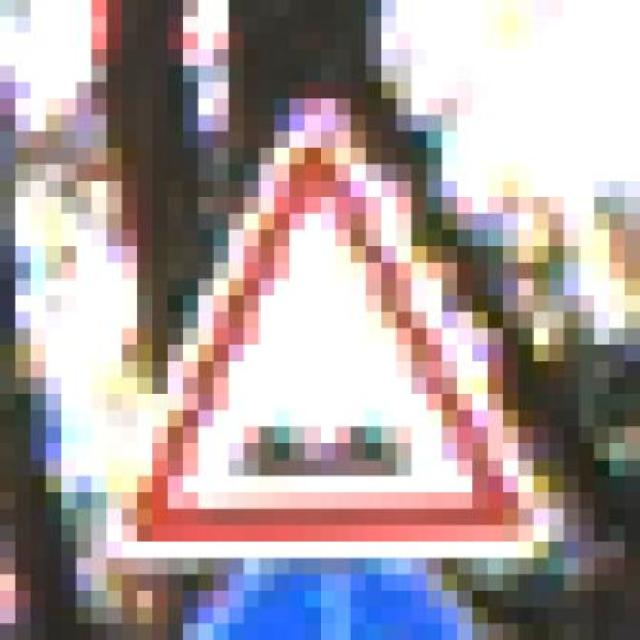Uneven Road: (122, 82, 564, 575)
